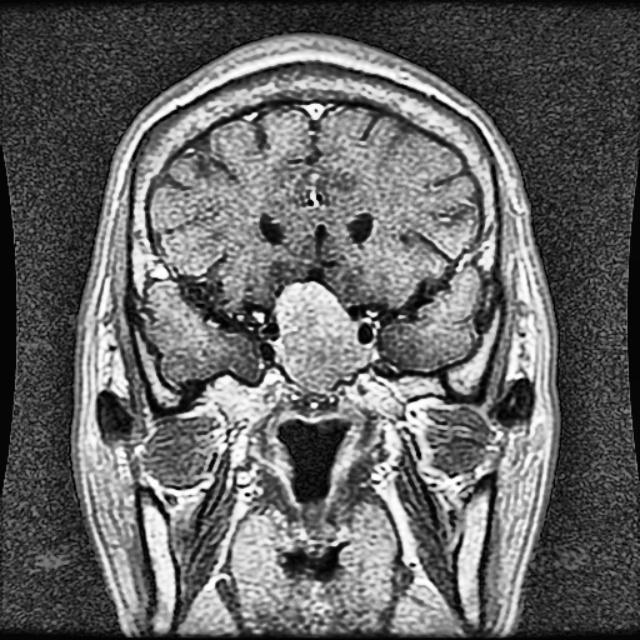Pituitary: (275, 282, 368, 389)
